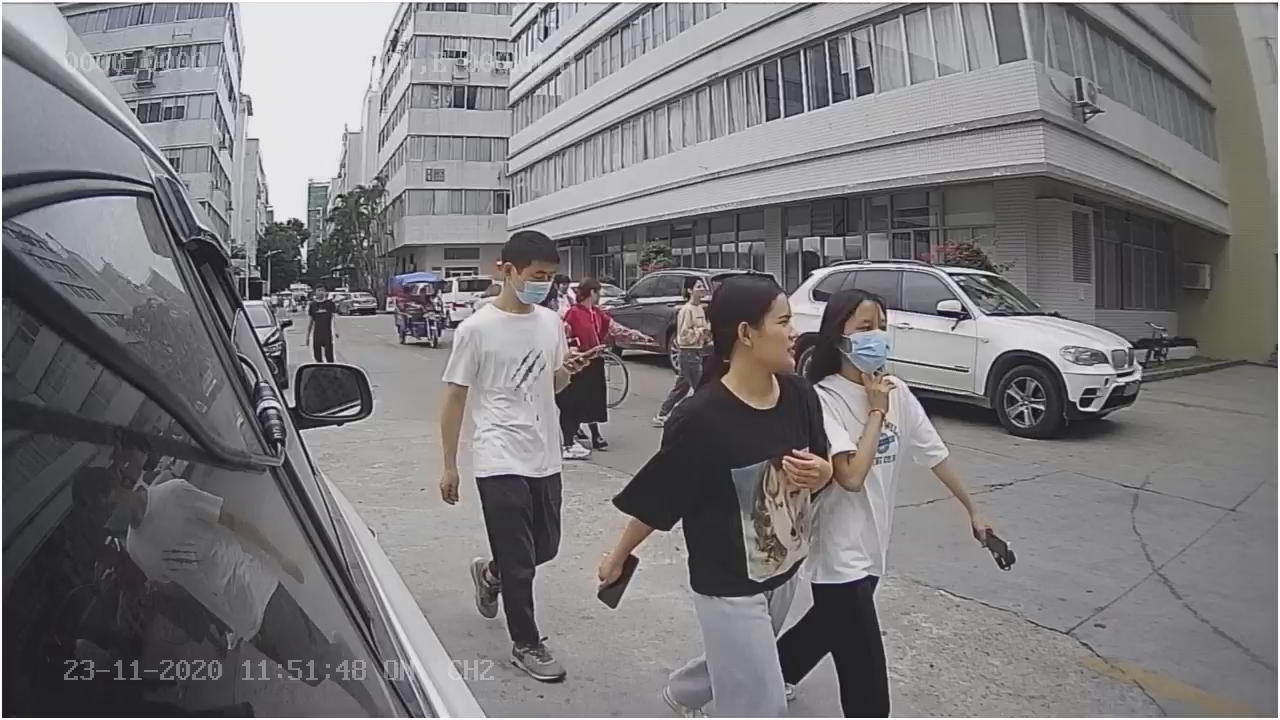person: (439, 220, 593, 689)
